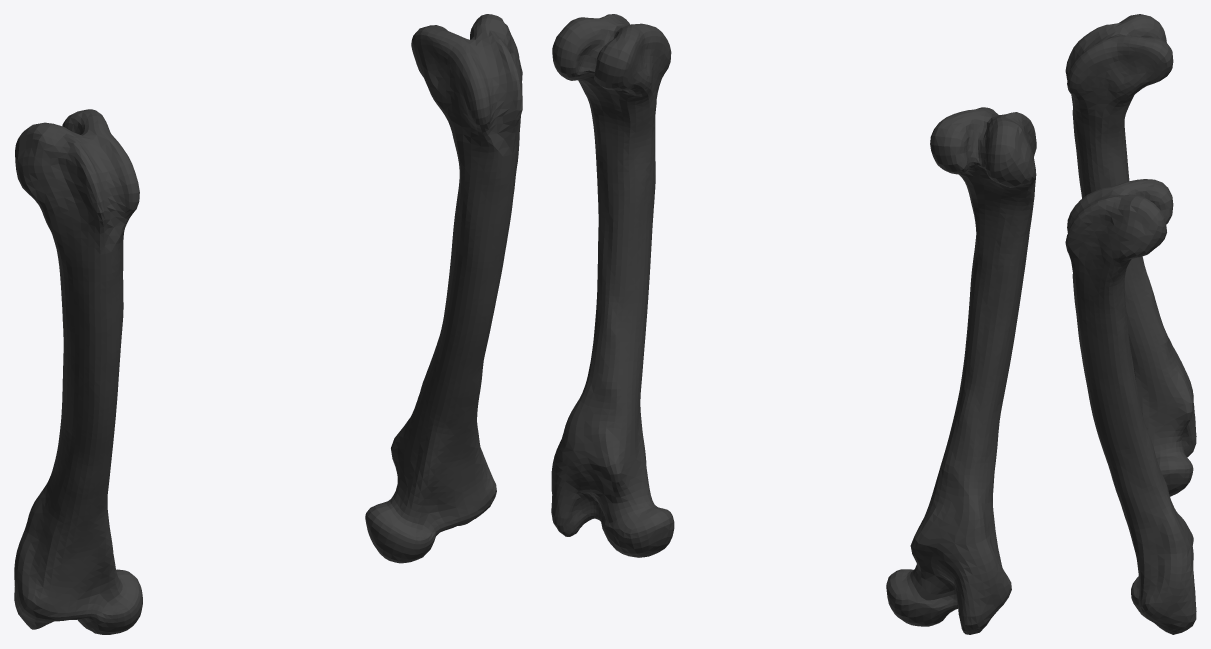
Rendered from Femur_1.glb.
3 views of the same model, side by side, from view 1: azimuth 30°, elevation 25°; view 2: azimuth 150°, elevation 25°; view 3: azimuth 270°, elevation 25° (orthographic). The views are drawn at different scales.
Parts seen in each view (by area): view 1: Femur_1; view 2: Femur_1; view 3: Femur_1.
Part boxes in pixels (x1=…): Femur_1: x1=14, y1=14, x2=522, y2=634; Femur_1: x1=551, y1=14, x2=1036, y2=634; Femur_1: x1=1065, y1=14, x2=1196, y2=634.
Bounding box in the file's own units: 0.00532 × 0.00547 × 0.00144.
1 material, 1 textured.
